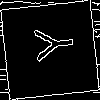Y: (25, 24, 75, 64)
